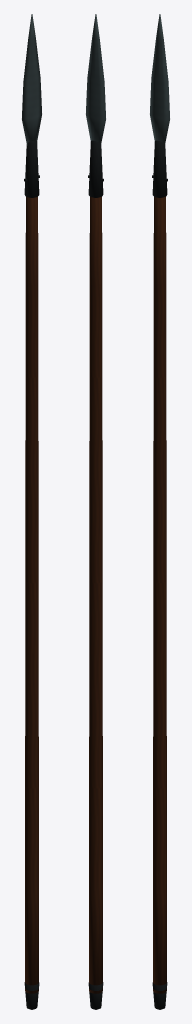
Rendered from spear.glb.
The picture shows the model from 3 angles, left to right: view 1: azimuth 30°, elevation 25°; view 2: azimuth 150°, elevation 25°; view 3: azimuth 330°, elevation 25°; orthographic projection.
Visible parts, largest first — view 1: AshShaft, LeafHead, Socket, ButtCap; view 2: AshShaft, LeafHead, Socket, ButtCap; view 3: AshShaft, LeafHead, Socket, ButtCap.
Part boxes in pixels (<box>): AshShaft: <box>25,196,38,993</box>; LeafHead: <box>22,14,41,145</box>; Socket: <box>24,140,39,197</box>; ButtCap: <box>24,982,39,1009</box>; AshShaft: <box>89,196,102,993</box>; LeafHead: <box>86,14,105,145</box>; Socket: <box>88,140,103,197</box>; ButtCap: <box>88,982,103,1009</box>; AshShaft: <box>153,196,166,993</box>; LeafHead: <box>150,14,169,145</box>; Socket: <box>152,140,167,197</box>; ButtCap: <box>152,982,167,1009</box>.
Bounding box in the file's own units: 0.052 × 2.43 × 0.0314.
Materials: 3 (3 with a texture image).
